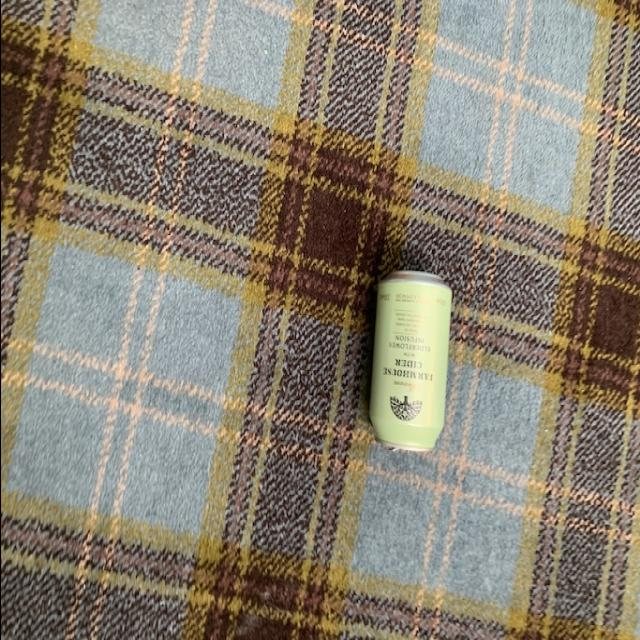litter: (364, 262, 454, 460)
